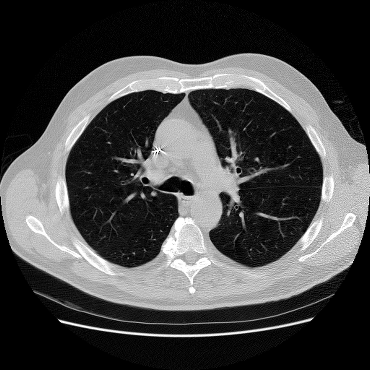nodule: (150, 190, 158, 198)
